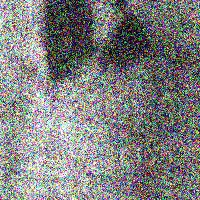patches: (44, 1, 93, 79), (102, 12, 156, 66)
